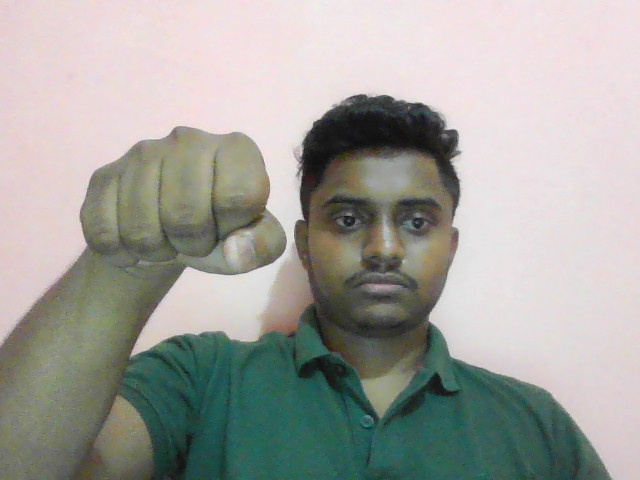Yes: (67, 118, 303, 280)
